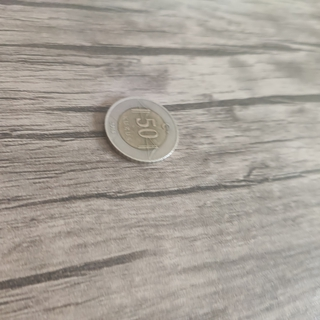50KURUS: (102, 95, 180, 166)
